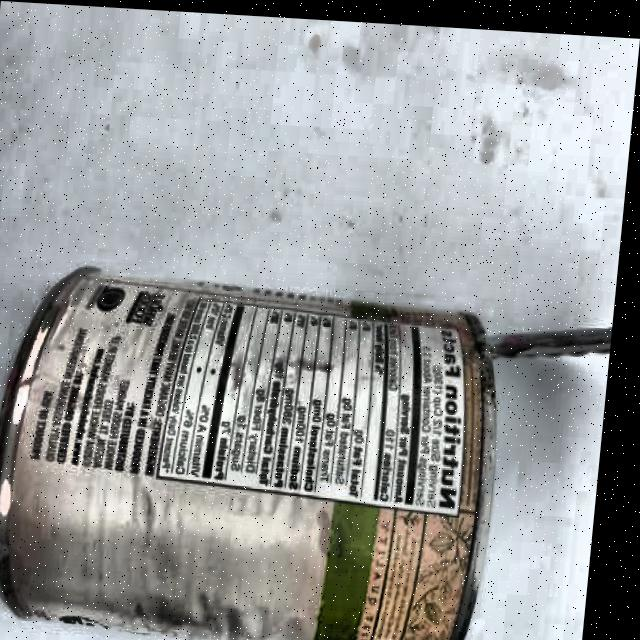metal: (0, 254, 615, 640)
